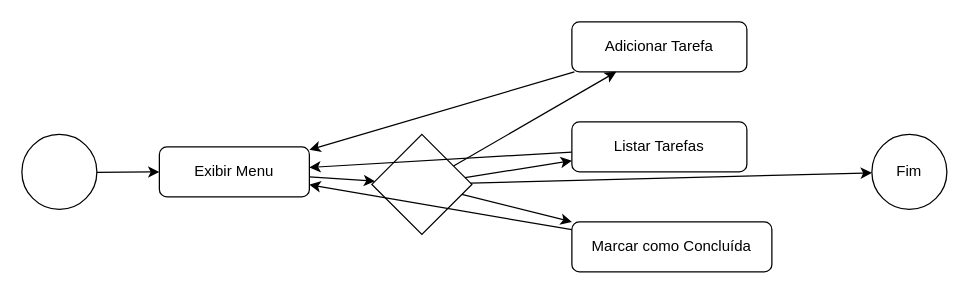
Some shapes in this 969 by 294 pixel diagram are drawn without their labels. The centre of each missing label's shape, as x and y in pixels:
"Escolher Opção" belongs at pixel 421 183.
"Início" belongs at pixel 59 171.
